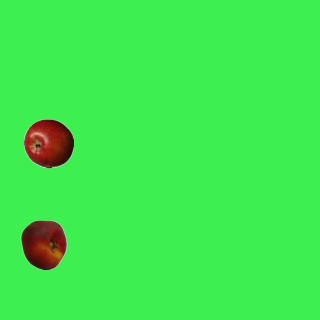Apple Braeburn: (23, 118, 73, 168)
Nectarine Flat: (18, 219, 68, 269)
